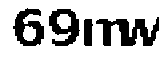6: (8, 4, 46, 48)
9: (47, 5, 81, 52)
m: (82, 14, 126, 51)
w: (124, 14, 160, 50)
